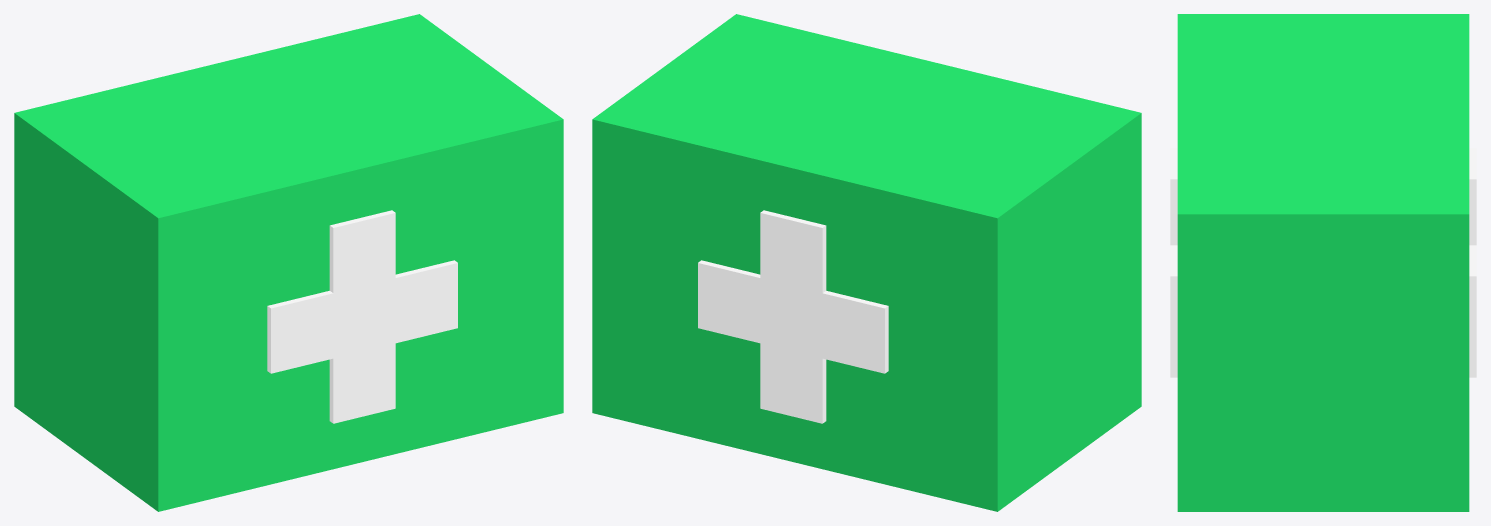
The model's file is pickup_repair.glb.
3 renders of one model, left to right at view 1: azimuth 30°, elevation 25°; view 2: azimuth 150°, elevation 25°; view 3: azimuth 270°, elevation 25°, orthographic.
Parts seen in each view (by area): view 1: PickupRepair; view 2: PickupRepair; view 3: PickupRepair.
Part boxes in pixels (left/top/right/bottom): PickupRepair: left=14, top=14, right=563, bottom=511; PickupRepair: left=592, top=14, right=1141, bottom=511; PickupRepair: left=1170, top=14, right=1476, bottom=511.
Bounding box in the file's own units: 1.3 × 0.9 × 0.84.
